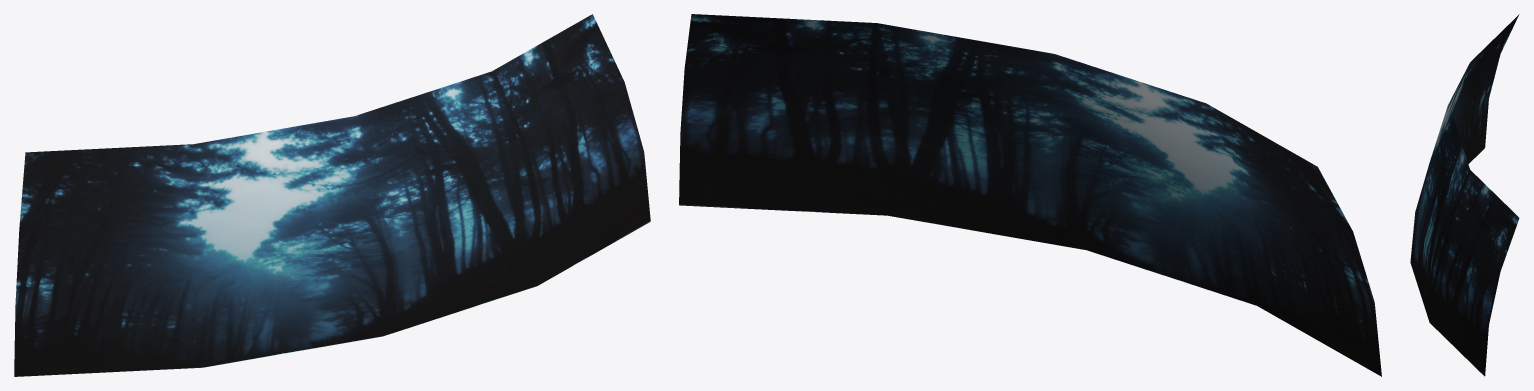
3 renders of one model, left to right at view 1: azimuth 30°, elevation 25°; view 2: azimuth 150°, elevation 25°; view 3: azimuth 270°, elevation 25°, orthographic. The views are drawn at different scales.
Parts seen in each view (by area): view 1: back_night; view 2: back_night; view 3: back_night.
Boxes of the visible parts, x1=… form: back_night: x1=14, y1=14, x2=650, y2=376; back_night: x1=679, y1=14, x2=1381, y2=376; back_night: x1=1410, y1=14, x2=1519, y2=376.
Size of the model in its own units: 2666 by 796 by 537.
1 material, 1 textured.
